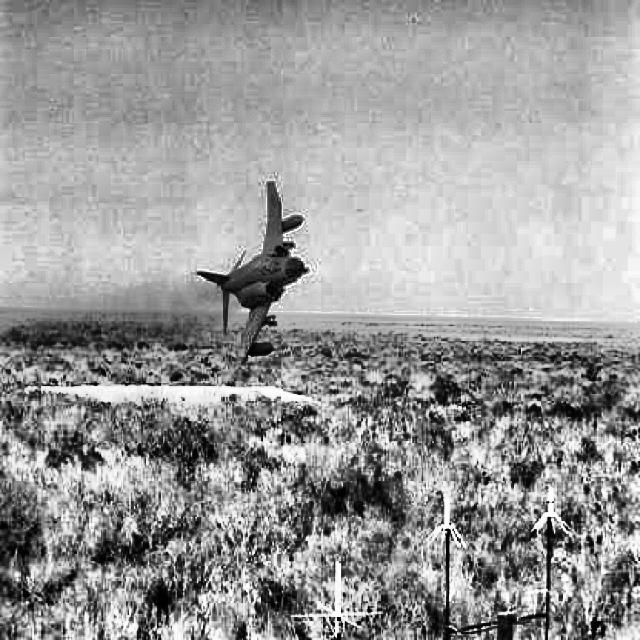F4: (194, 180, 309, 389)
